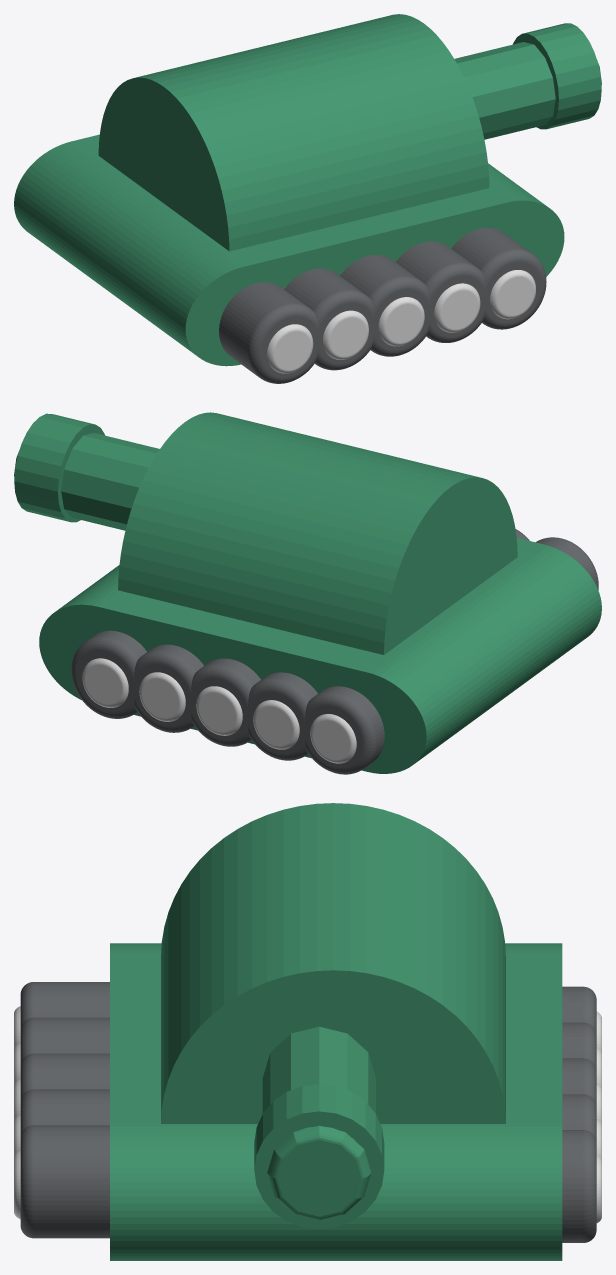
File: asset.glb
The picture shows the model from 3 angles, top to bottom: view 1: azimuth 30°, elevation 25°; view 2: azimuth 150°, elevation 25°; view 3: azimuth 270°, elevation 25°; orthographic projection. The views are drawn at different scales.
Visible parts, largest first — view 1: Mesh_Mesh_head_geo.001_lambert2SG.001; view 2: Mesh_Mesh_head_geo.001_lambert2SG.001; view 3: Mesh_Mesh_head_geo.001_lambert2SG.001.
Boxes of the visible parts, <box> form: Mesh_Mesh_head_geo.001_lambert2SG.001: <box>14,14,601,383</box>; Mesh_Mesh_head_geo.001_lambert2SG.001: <box>14,412,601,774</box>; Mesh_Mesh_head_geo.001_lambert2SG.001: <box>14,803,601,1260</box>.
Bounding box in the file's own units: 129 × 55 × 104.
